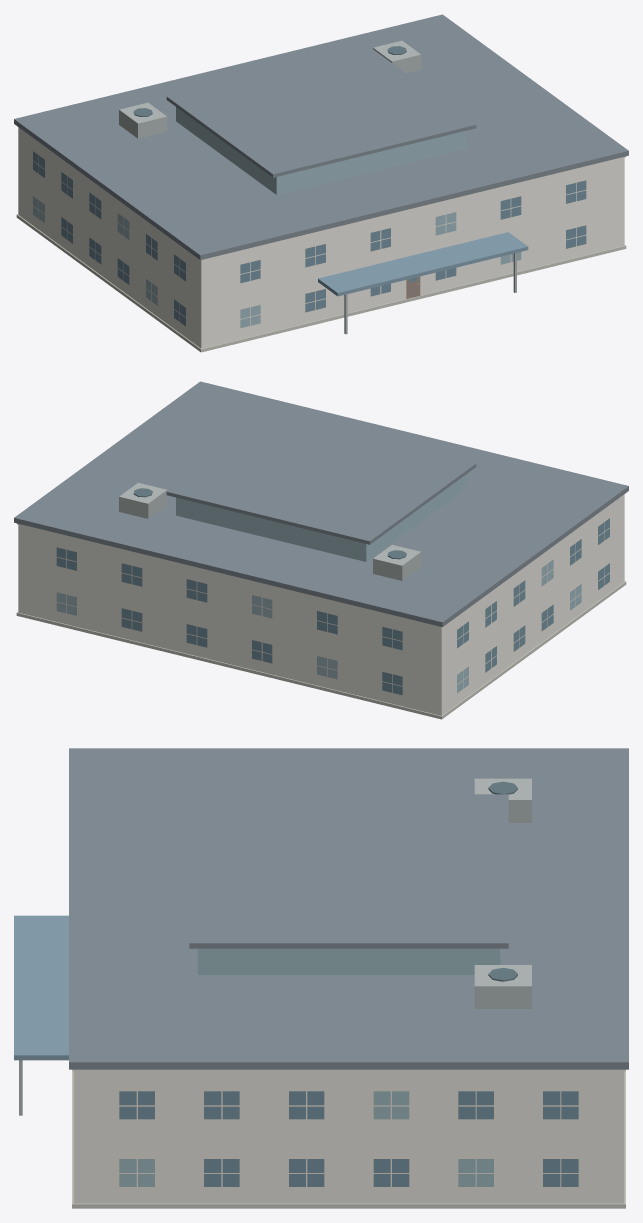
The model's file is civic-library-atrium.glb.
3 views of the same model, one above another, from view 1: azimuth 30°, elevation 25°; view 2: azimuth 150°, elevation 25°; view 3: azimuth 270°, elevation 25° (orthographic). The views are drawn at different scales.
Parts seen in each view (by area): view 1: civic-library-atrium; view 2: civic-library-atrium; view 3: civic-library-atrium.
Boxes of the visible parts, x1,y1,x2,y2 form: civic-library-atrium: (14, 14, 628, 352); civic-library-atrium: (14, 381, 628, 719); civic-library-atrium: (14, 748, 628, 1208).
Size of the model in its own units: 32.4 by 8.85 by 26.8.
